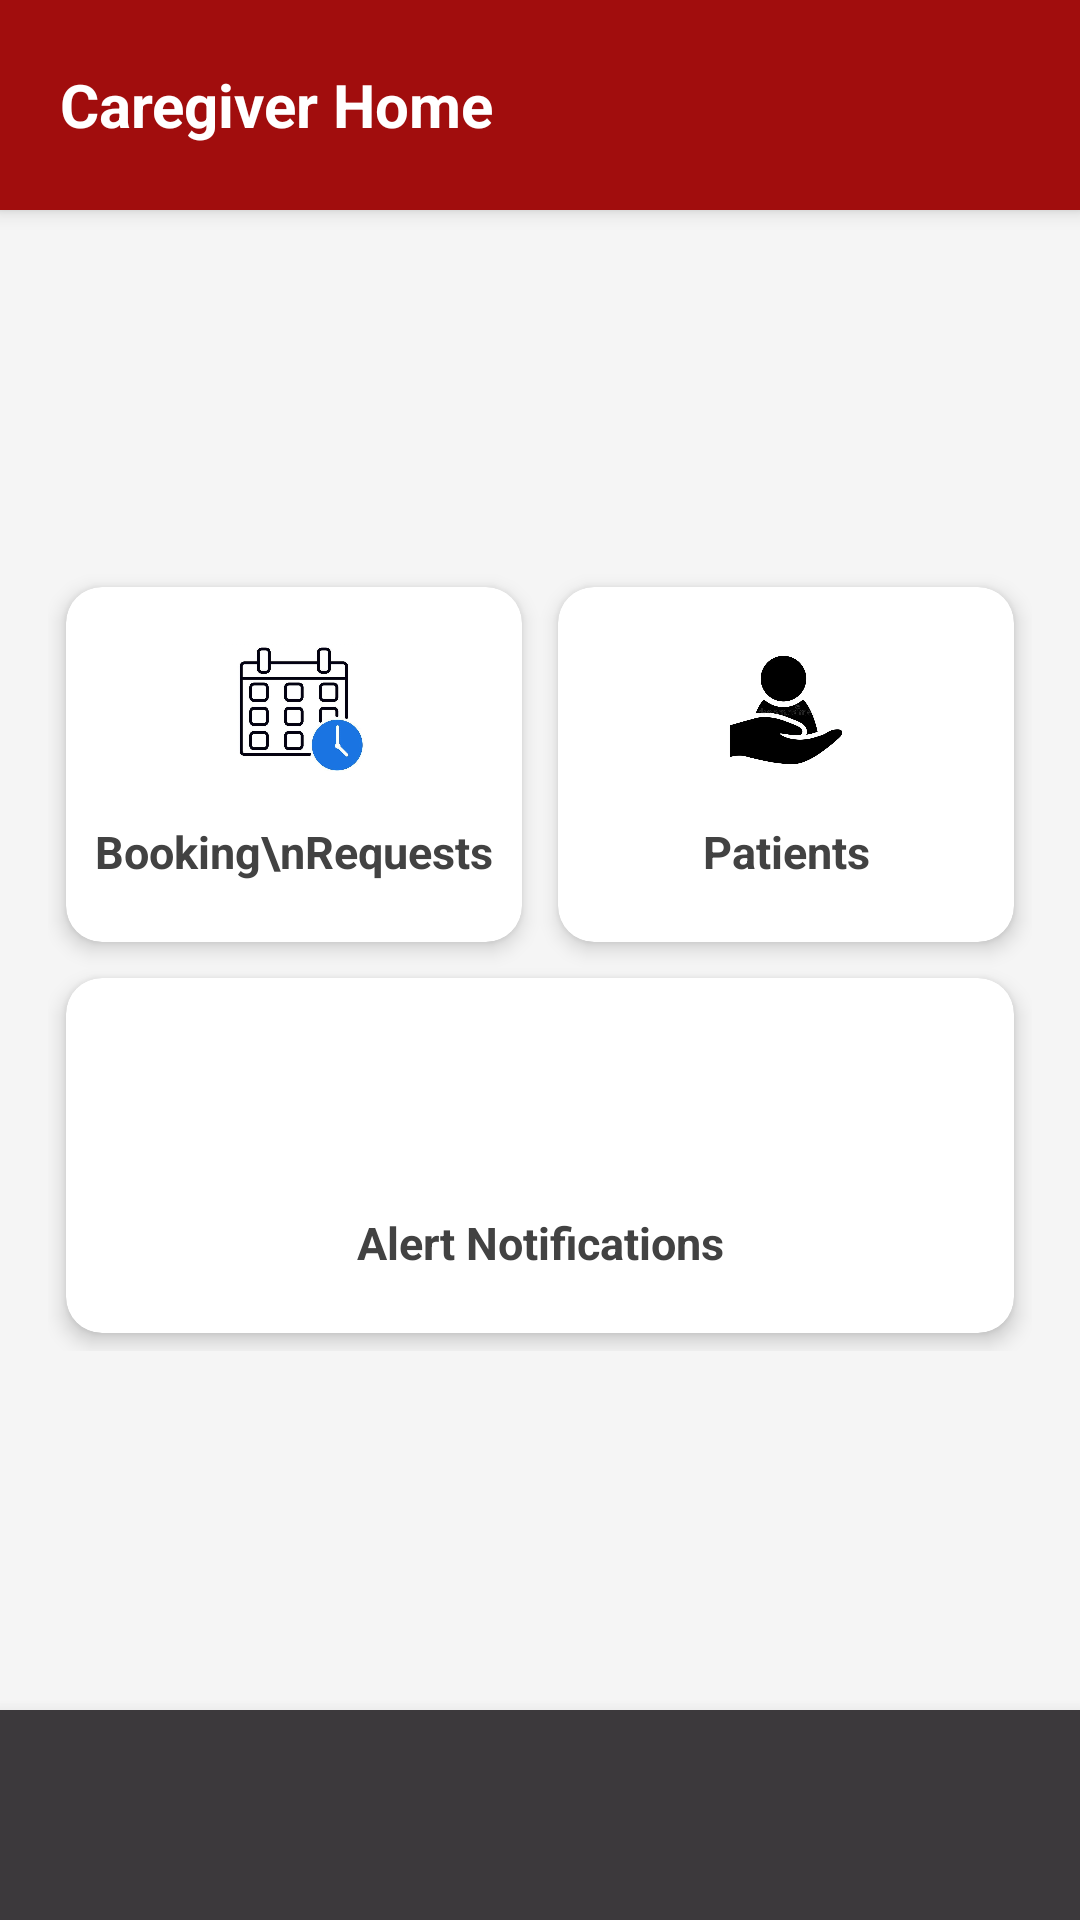

Icon bounding boxes for this 1080px x 1920px phone screenshot, format [left=x1, top=y1, right=x2, bottom=y2]:
bookings: [left=240, top=647, right=363, bottom=771]
